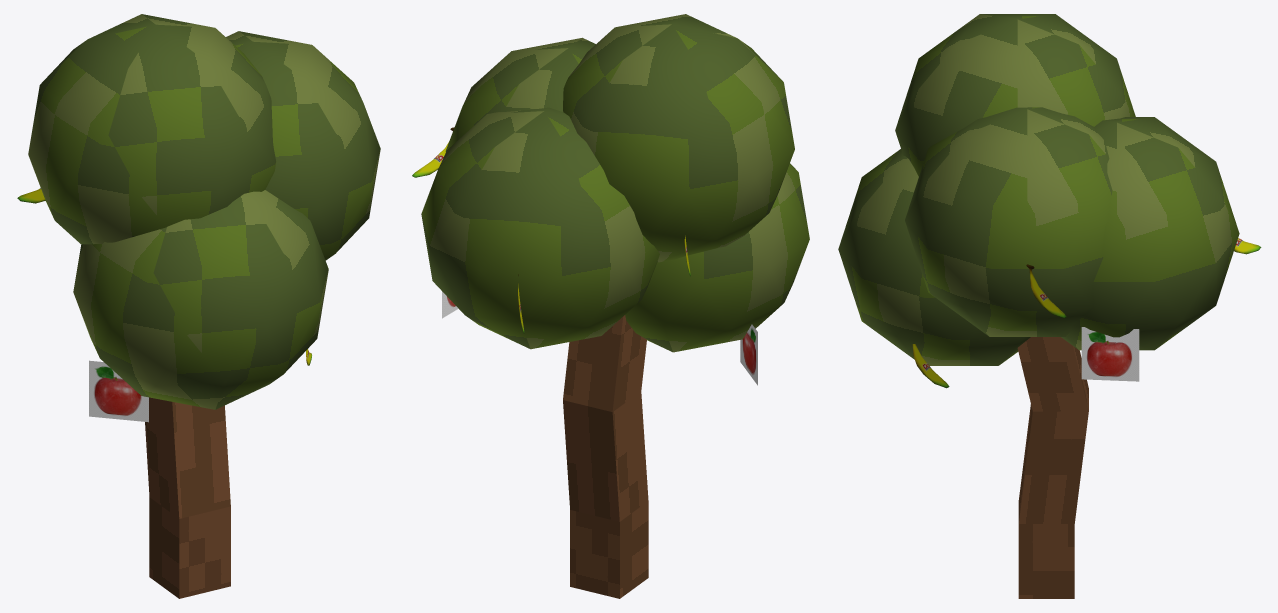
The model's file is tree.gltf.
3 renders of one model, left to right at view 1: azimuth 30°, elevation 25°; view 2: azimuth 150°, elevation 25°; view 3: azimuth 270°, elevation 25°, orthographic. The views are drawn at different scales.
Visible parts, largest first — view 1: Plane.001; view 2: Plane.001; view 3: Plane.001.
Boxes of the visible parts, x1,y1,x2,y2 form: Plane.001: [17, 14, 380, 598]; Plane.001: [412, 14, 809, 598]; Plane.001: [838, 14, 1261, 598].
Bounding box in the file's own units: 3.12 × 4.9 × 3.47.
8 materials, 8 textured.
